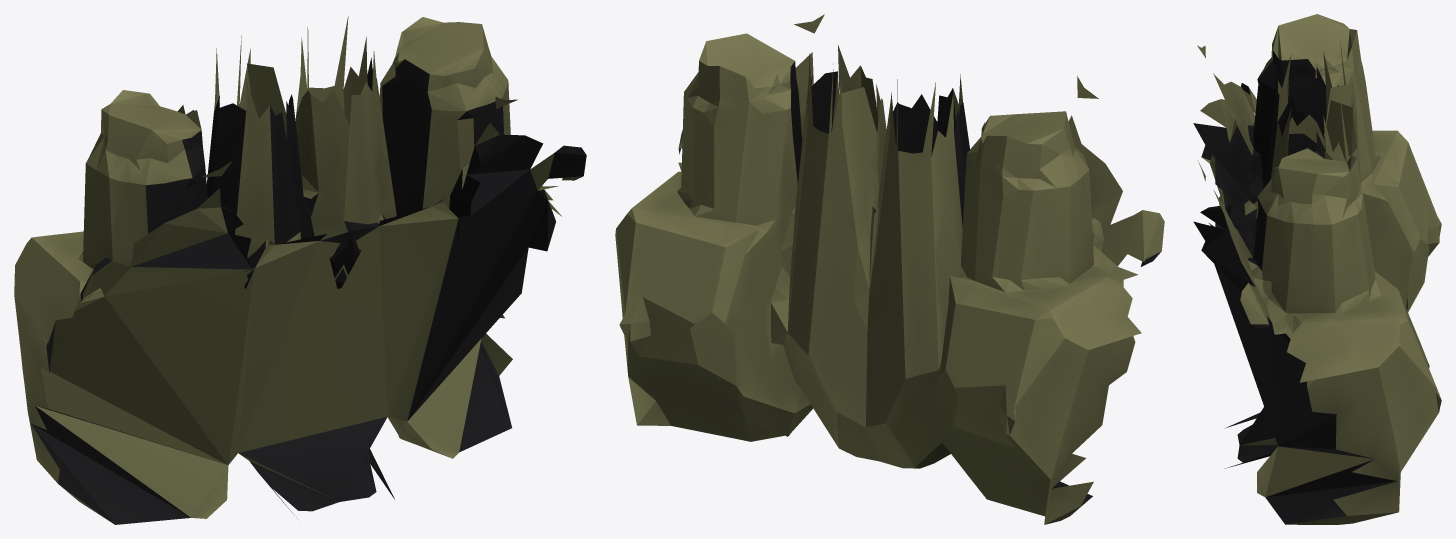
Rendered from recon_gen_booster.glb.
The picture shows the model from 3 angles, left to right: view 1: azimuth 30°, elevation 25°; view 2: azimuth 150°, elevation 25°; view 3: azimuth 270°, elevation 25°; orthographic projection. The views are drawn at different scales.
Visible parts, largest first — view 1: gen_booster; view 2: gen_booster; view 3: gen_booster.
Boxes of the visible parts, <box> form: gen_booster: <box>14,16,586,524</box>; gen_booster: <box>615,14,1164,524</box>; gen_booster: <box>1193,14,1441,524</box>.
Size of the model in its own units: 2.84 by 2.29 by 1.35.
